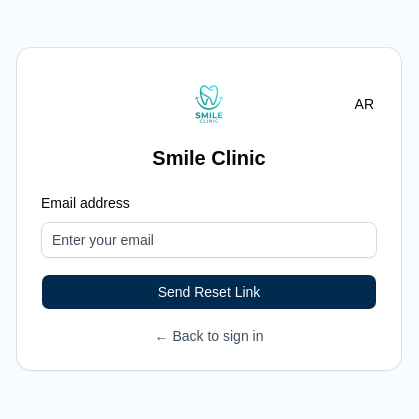
it: ForgotPasswordPage › shows inline error and keeps form visible on network failure
This screenshot has width=419, height=419.
Step 1. Type "user@example.com" into the field labelled "Email address" → coordinates (209, 240), box [41, 222, 377, 258]
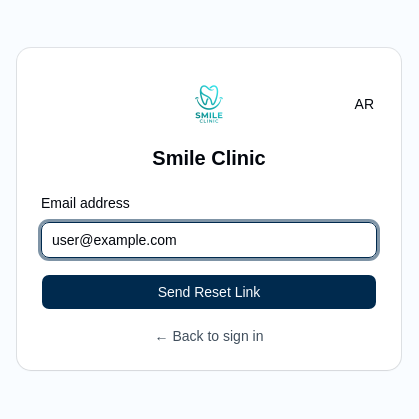
Step 2. Click the button "Send Reset Link" → coordinates (209, 292), box [41, 274, 377, 310]
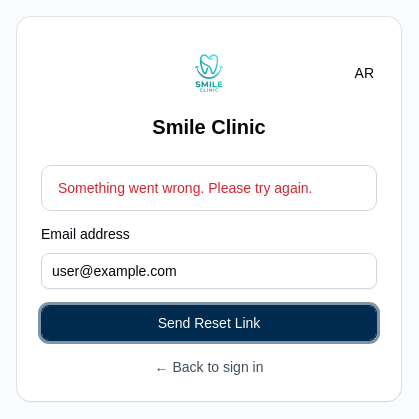
Expected: the form is shown, [41, 165, 377, 377]
Now the message "Something went wrong. Please try again." is shown, box [41, 165, 377, 211]
